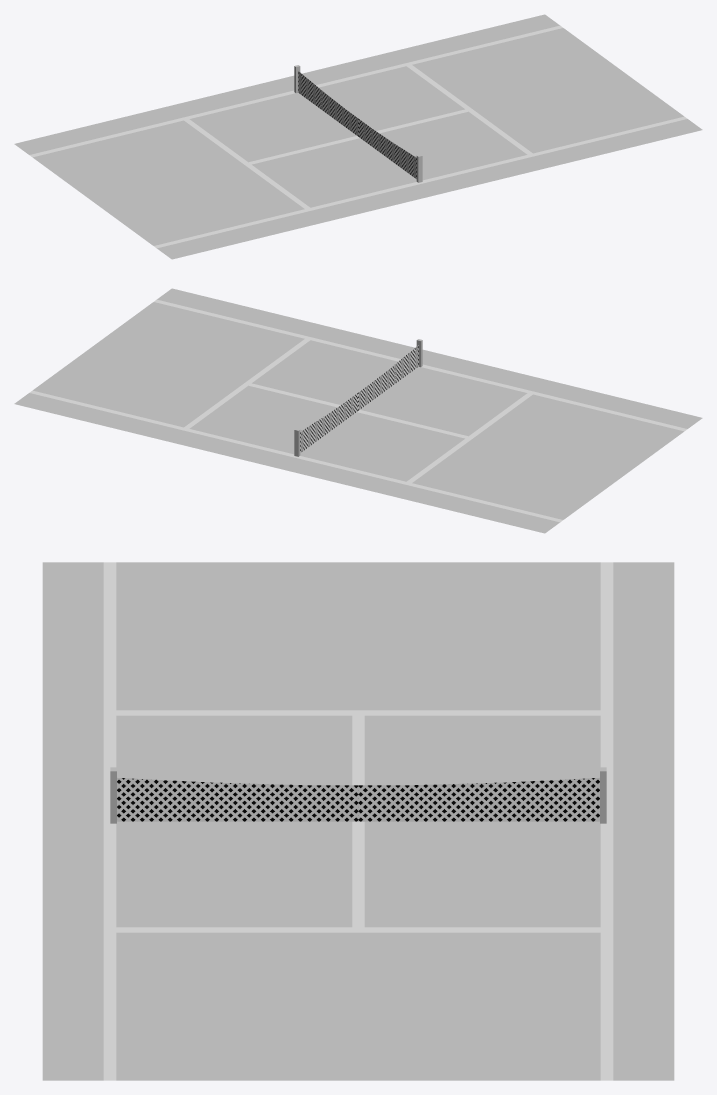
The model's file is bld_poi_tennis_court_a.fbx.
3 views of the same model, one above another, from view 1: azimuth 30°, elevation 25°; view 2: azimuth 150°, elevation 25°; view 3: azimuth 270°, elevation 25° (orthographic). The views are drawn at different scales.
Visible parts, largest first — view 1: bld_poi_tennis_court_a; view 2: bld_poi_tennis_court_a; view 3: bld_poi_tennis_court_a.
Boxes of the visible parts, <box> form: bld_poi_tennis_court_a: <box>14,14,702,259</box>; bld_poi_tennis_court_a: <box>14,288,702,533</box>; bld_poi_tennis_court_a: <box>42,562,674,1080</box>.
Size of the model in its own units: 5887 by 276 by 3034.
